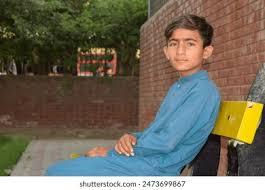Human: (43, 10, 227, 186)
